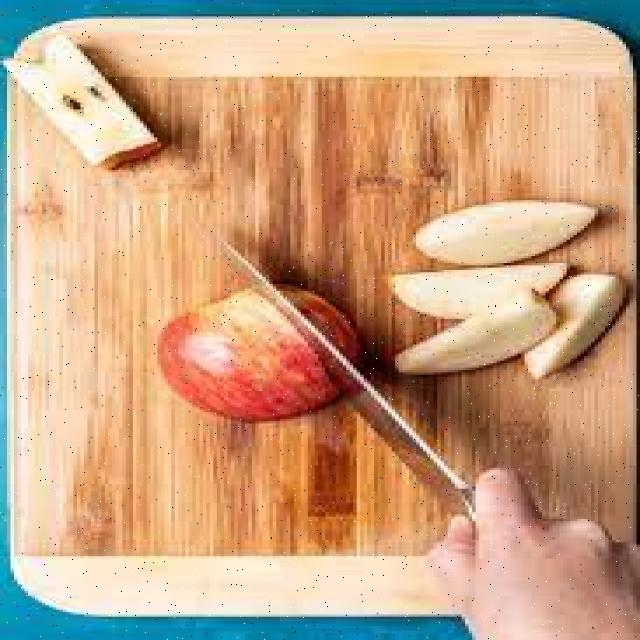Apple: (152, 282, 362, 422), (0, 26, 172, 176), (396, 289, 558, 380), (414, 186, 596, 264), (520, 272, 630, 384), (380, 264, 568, 314)
